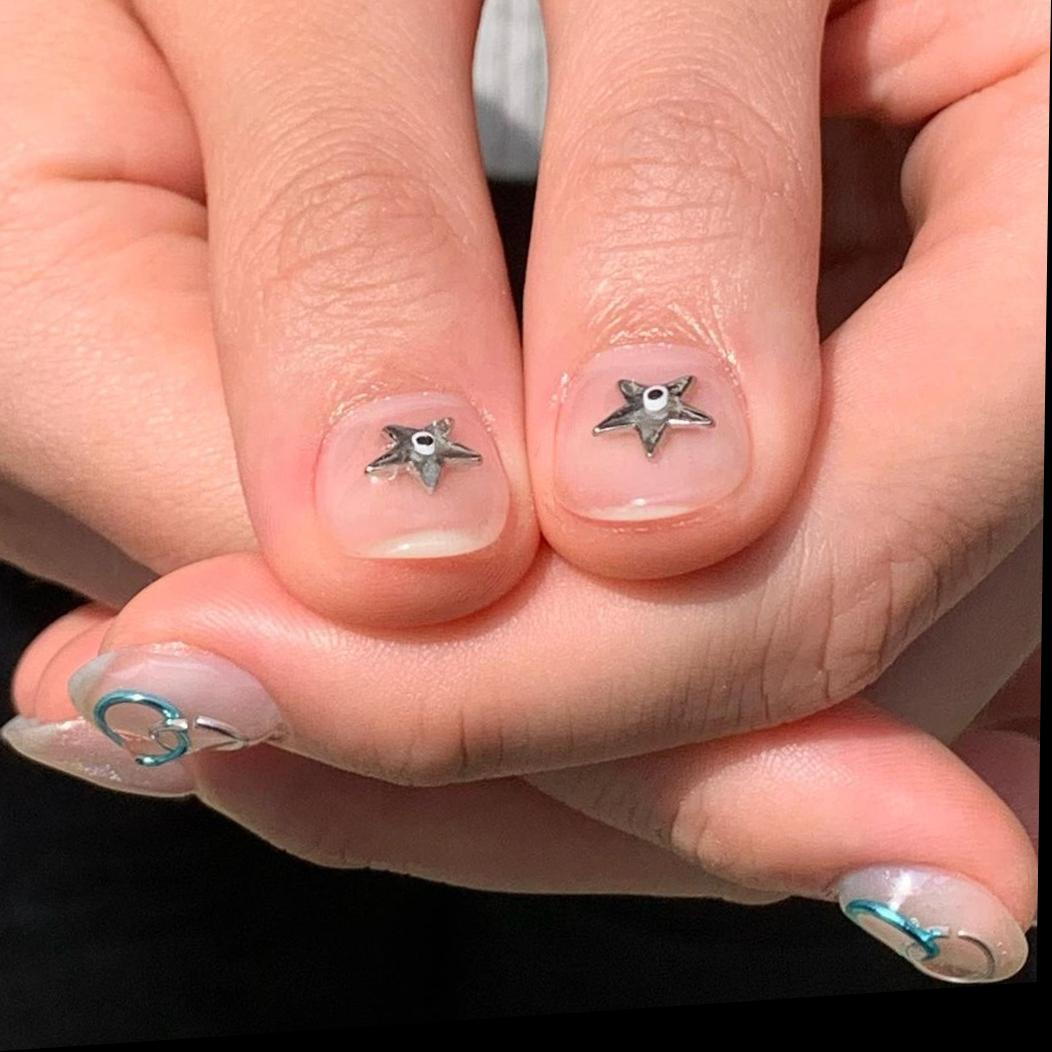nail: (554, 343, 751, 522), (316, 391, 509, 558), (64, 630, 283, 775), (832, 850, 1030, 994), (1, 716, 192, 798)
